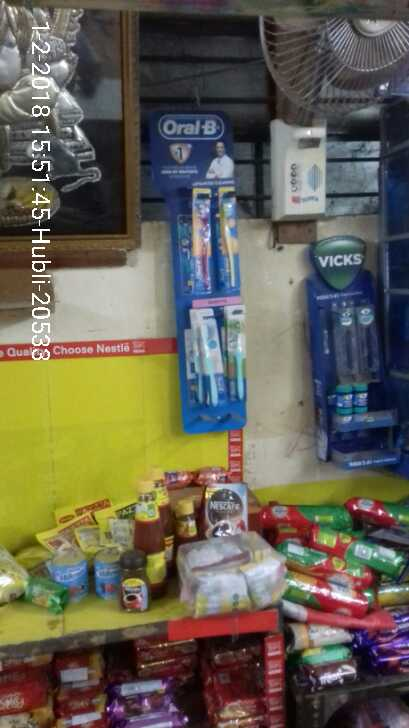pharmacy: (194, 308, 224, 406), (228, 302, 250, 408), (219, 193, 240, 299), (190, 194, 211, 292), (333, 382, 378, 418)
